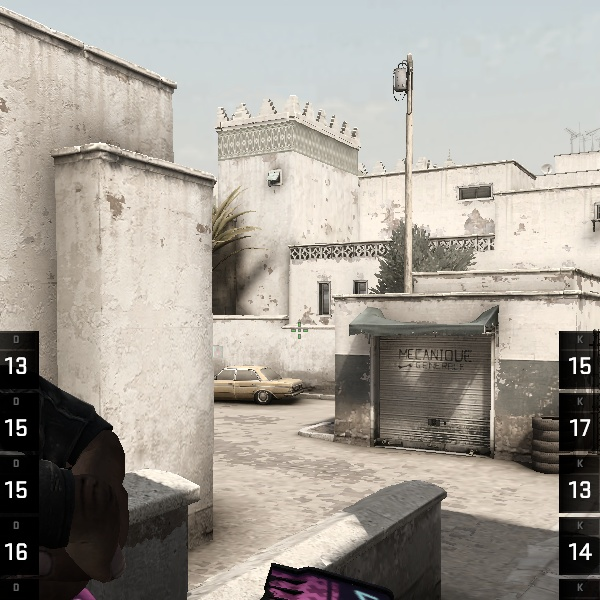ct_body: (8, 250, 181, 600)
